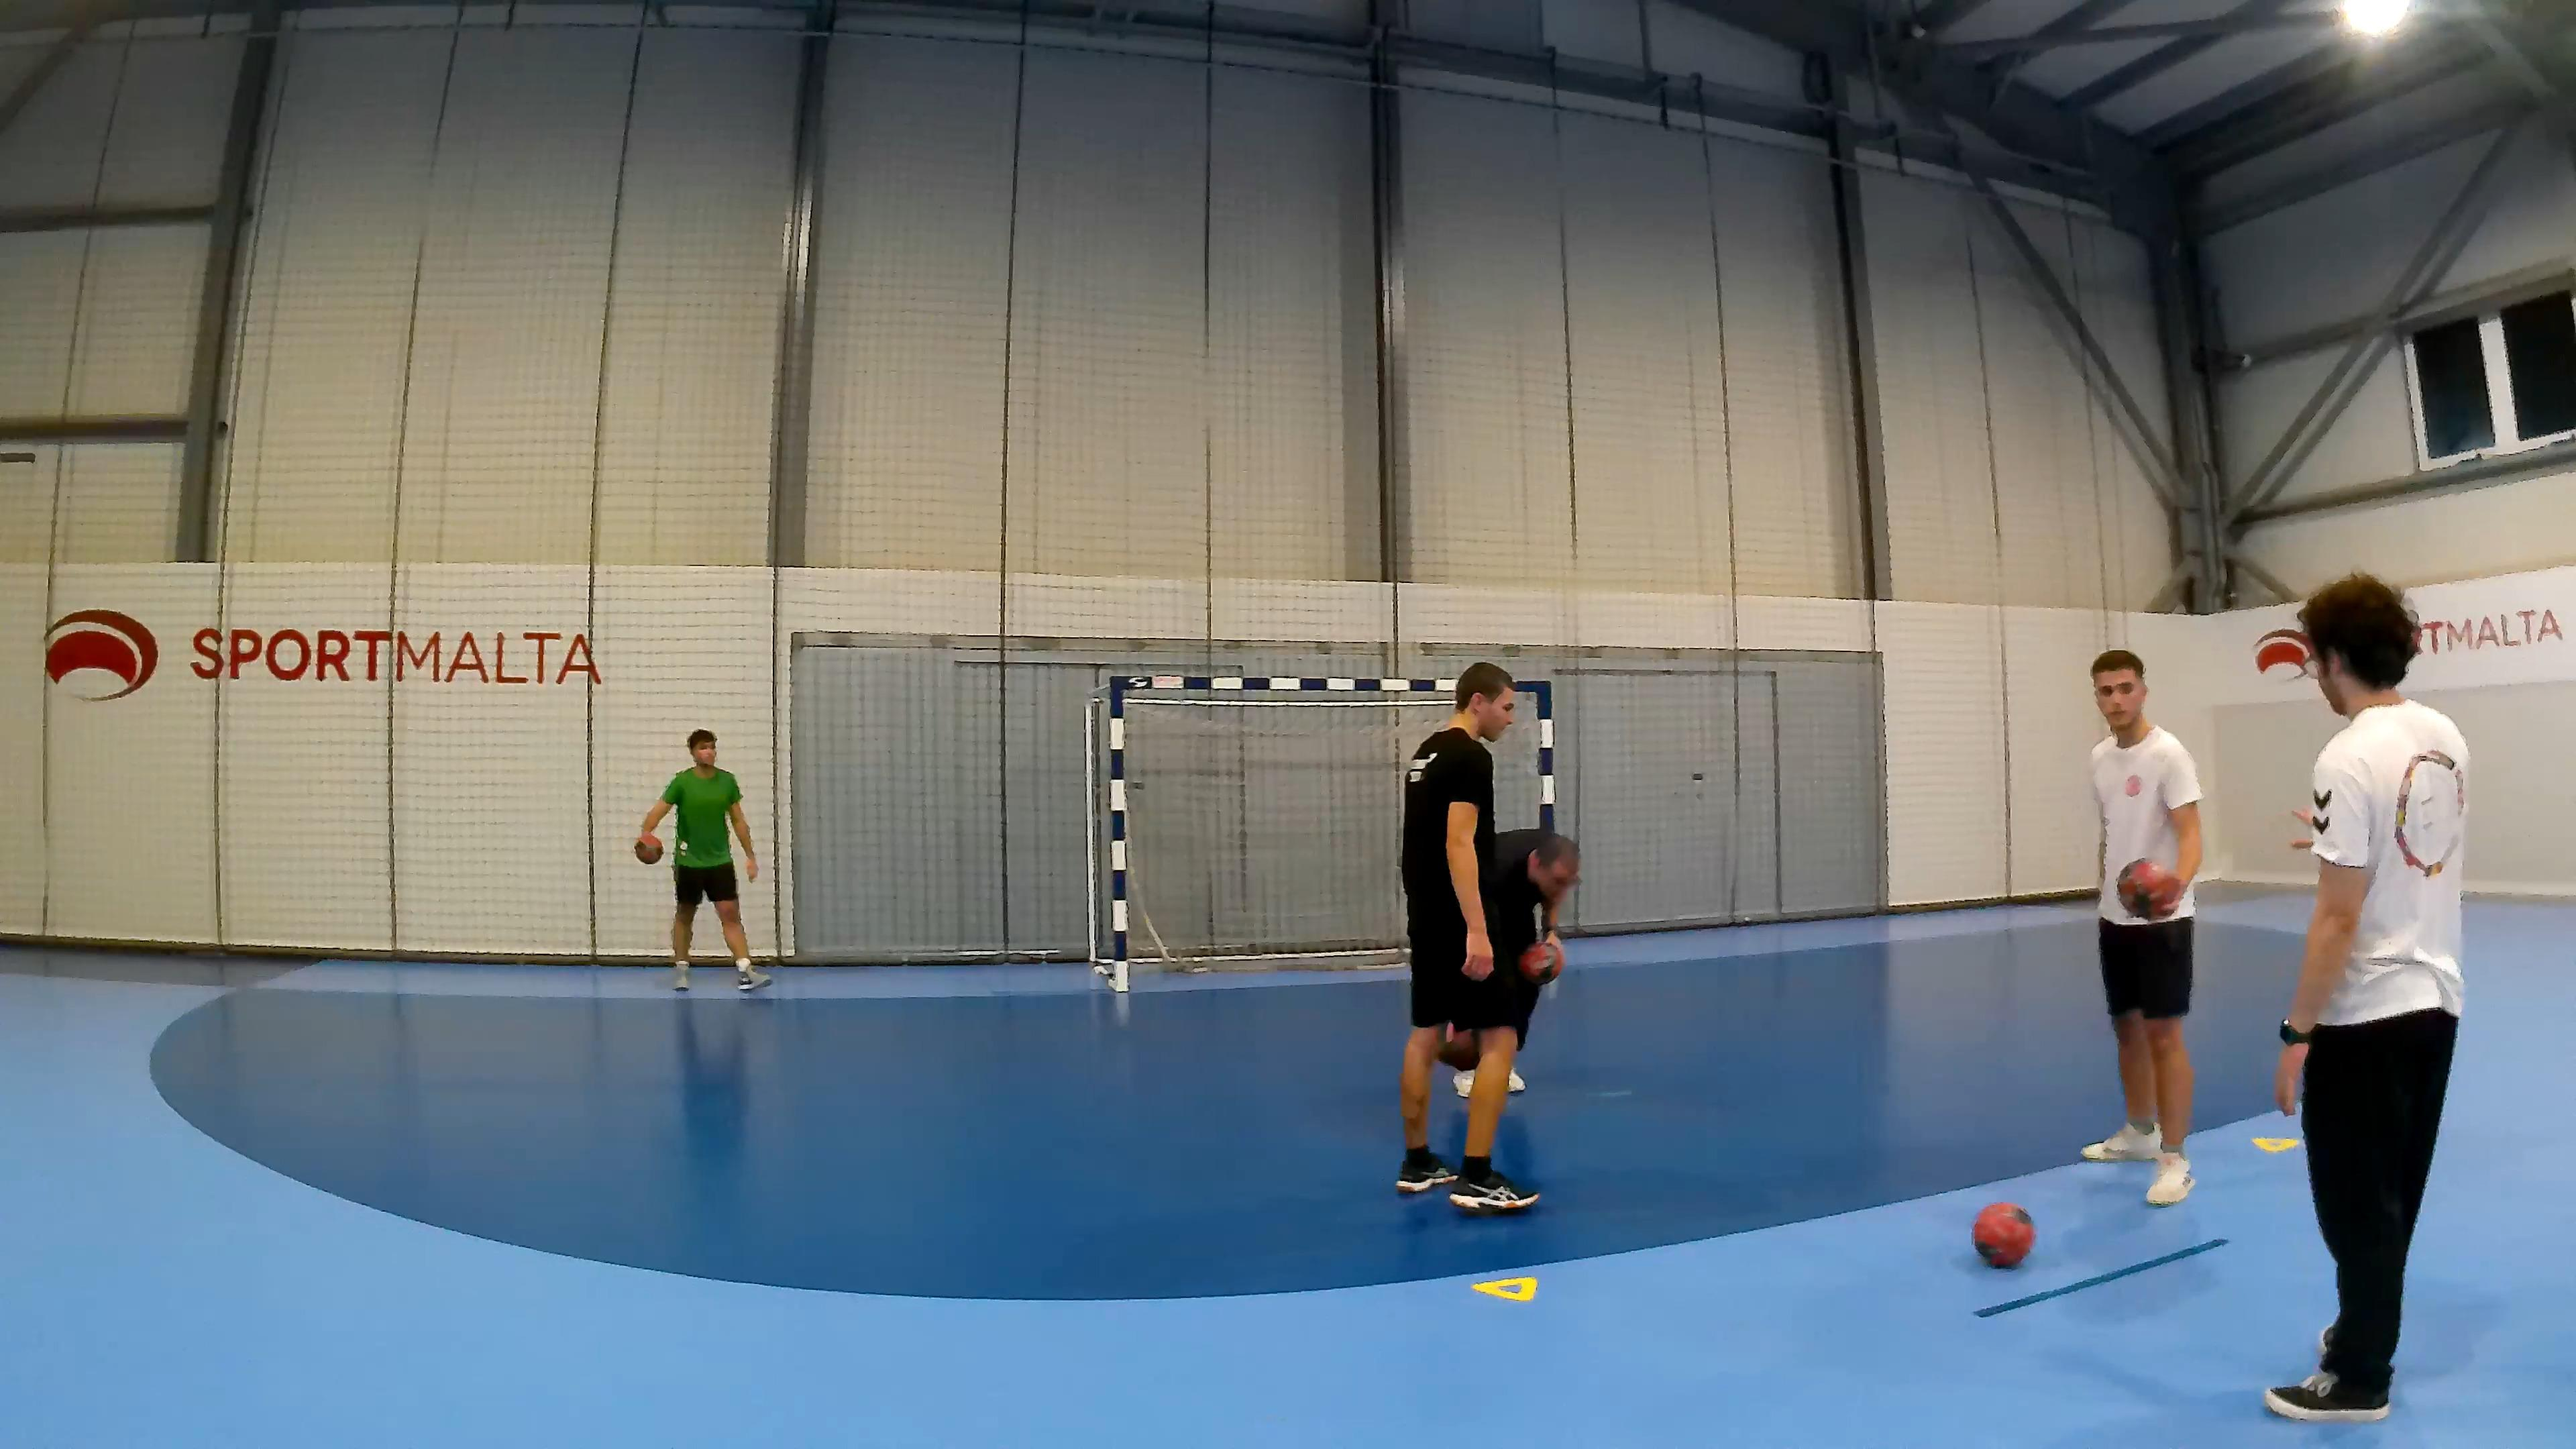handball: (1971, 1200, 2035, 1267), (2114, 858, 2176, 918), (1518, 938, 1562, 982)
